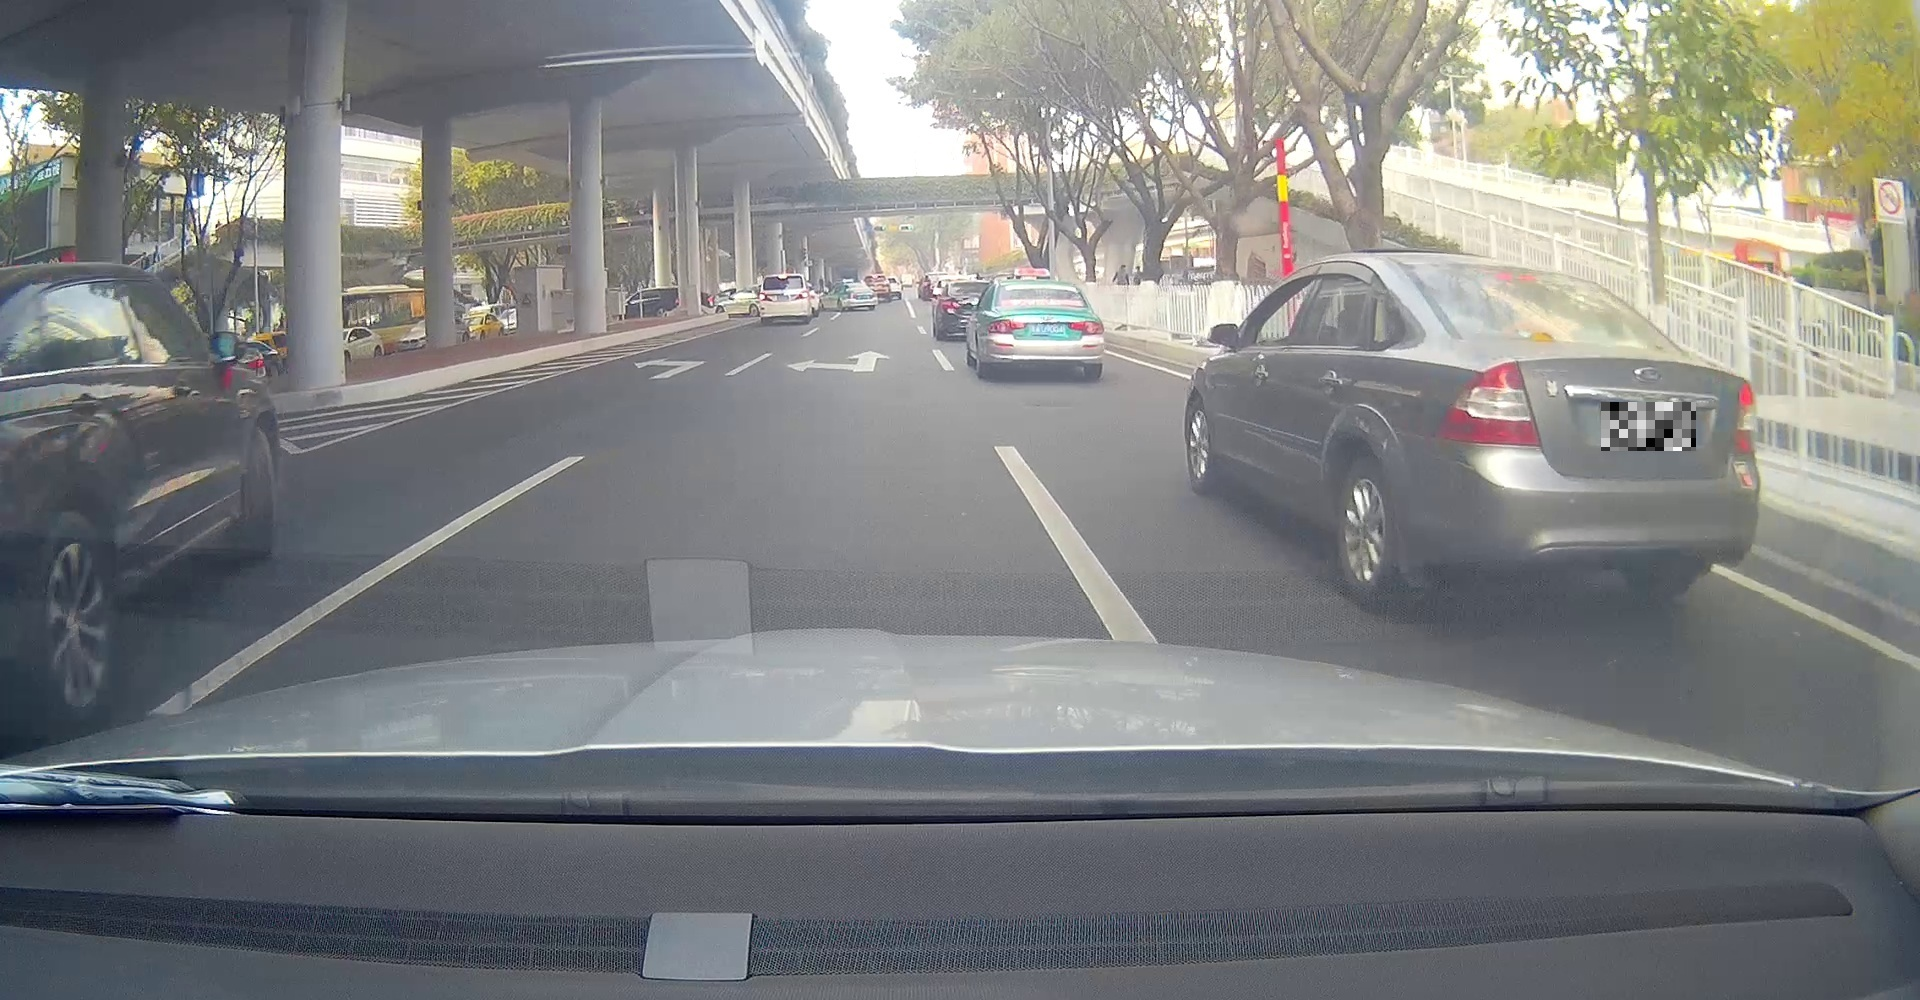L_light: (1431, 360, 1542, 447), (987, 319, 1026, 334), (759, 293, 772, 301), (850, 293, 858, 299)
R_light: (1731, 379, 1757, 456), (1068, 320, 1103, 335), (794, 291, 808, 299), (870, 292, 877, 299)
T_light: (1495, 272, 1538, 280), (1032, 286, 1049, 291), (778, 275, 787, 279), (855, 284, 860, 286)
day-brake: (1388, 253, 1761, 599), (759, 273, 810, 324)
day-no: (985, 280, 1103, 379), (844, 282, 877, 311)
plate_1: (1601, 402, 1697, 451)
